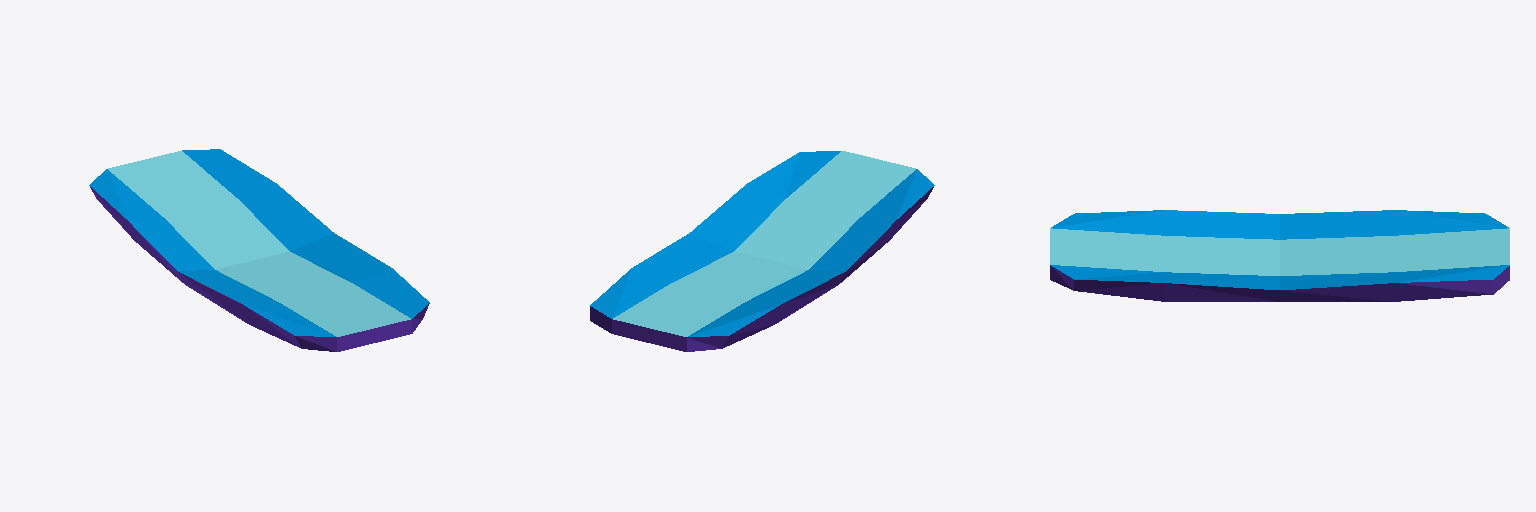
Rendered from model-triangulated.obj.
3 views of the same model, side by side, from view 1: azimuth 30°, elevation 25°; view 2: azimuth 150°, elevation 25°; view 3: azimuth 270°, elevation 25° (orthographic).
Parts seen in each view (by area): view 1: group[number redacted]; view 2: group[number redacted]; view 3: group[number redacted].
Boxes of the visible parts, x1=… form: group[number redacted]: x1=89, y1=149, x2=429, y2=351; group[number redacted]: x1=590, y1=151, x2=934, y2=351; group[number redacted]: x1=1050, y1=210, x2=1509, y2=301.
Size of the model in its own units: 0.22 by 0.03 by 0.56.